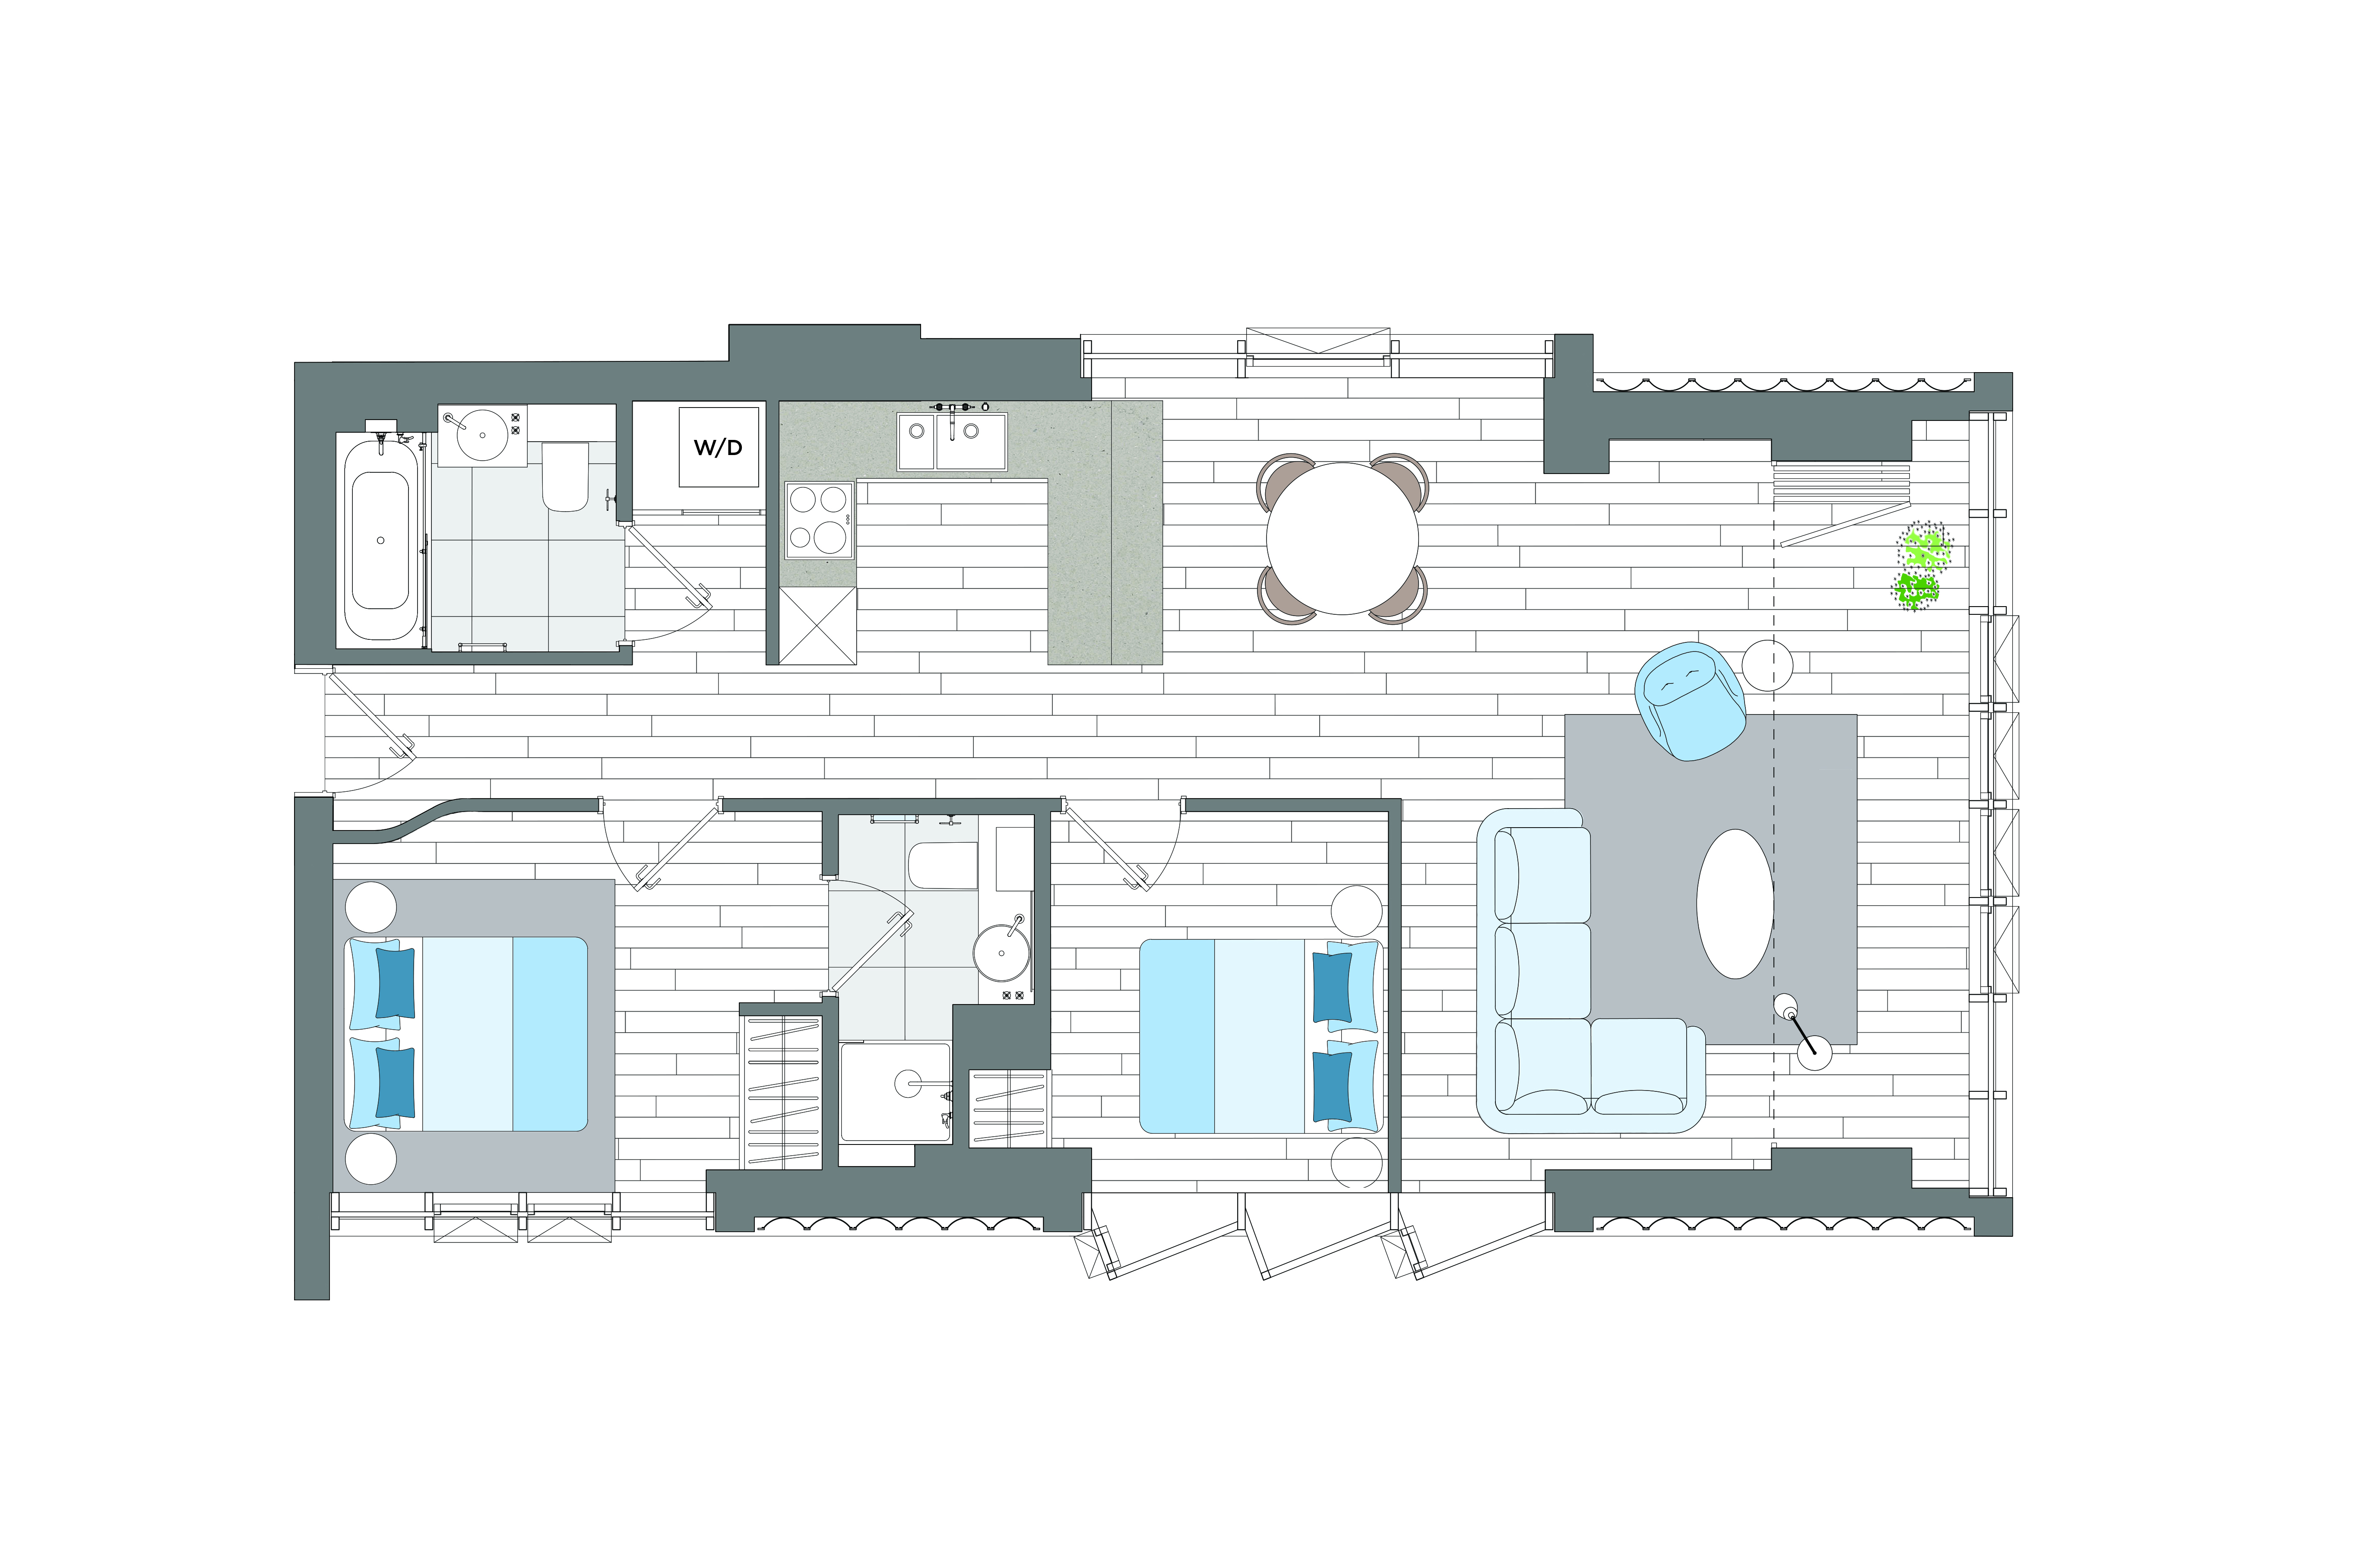door: (1064, 795, 1181, 905), (600, 798, 723, 894), (621, 522, 716, 644), (327, 676, 423, 795), (822, 877, 919, 996)
